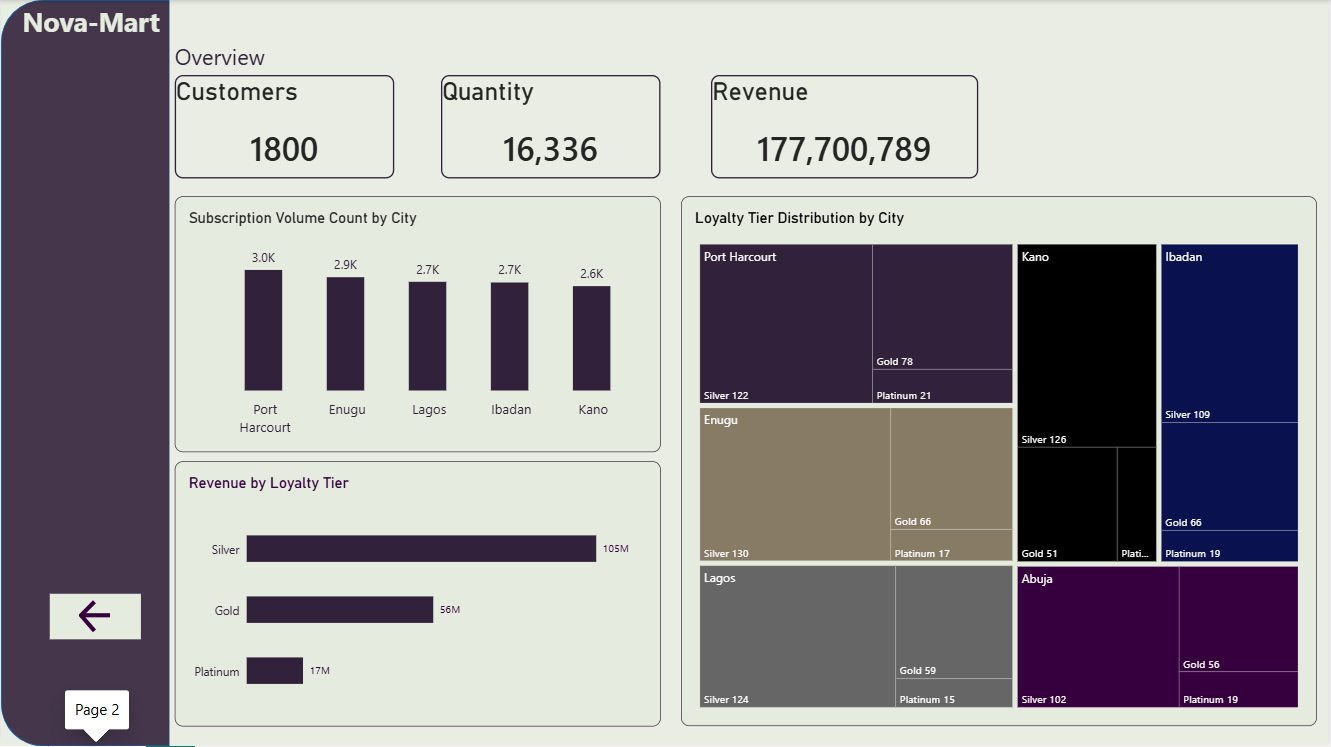

The page's visual inventory and layout, read from the dashboard file:
{"tool":"powerbi","page":{"name":"Page 2","canvas":[1600,900],"ordinal":1},"visuals":[{"type":"shape","box":[0,0,203.6,900.3],"z":1000},{"type":"textbox","box":[25,5,179.5,66.4],"z":2000},{"type":"cardVisual","title":"Revenue","fields":{"Data":["public subscriptions.Revenue"]},"box":[856.6,90.5,322.7,125.2],"z":3000},{"type":"cardVisual","title":"Customers","fields":{"Data":["CountNonNull(public support_tickets.customer_id)"]},"box":[210,90,265,125.2],"z":4000},{"type":"cardVisual","title":"Quantity","fields":{"Data":["Sum(public subscriptions.quantity)"]},"box":[530.8,90.5,265,125.2],"z":5000},{"type":"textbox","box":[210,50,130,50],"z":6000},{"type":"treemap","title":"Loyalty Tier Distribution by City","fields":{"Group":["public customers.city"],"Values":["CountNonNull(public customers.loyalty_tier)"],"Details":["public customers.loyalty_tier"]},"box":[820.4,236.8,767.6,639.4],"z":7000},{"type":"columnChart","fields":{"Y":["Sum(public subscriptions.quantity)"],"Category":["public customers.city"]},"box":[209.6,236.8,586.6,309.2],"z":8000},{"type":"clusteredBarChart","fields":{"Y":["public subscriptions.Revenue"],"Category":["public customers.loyalty_tier"]},"box":[209.6,556.5,586.6,319.7],"z":9000},{"type":"actionButton","box":[58.8,716.3,110,55],"z":10000}]}

Visuals, with their boxes in screenshot pixels (x1, y1, x2, y2), scaled from the page's 1600x900 canvas onto the 1331x747 screenshot:
shape: crop(0, 0, 169, 746)
textbox: crop(21, 4, 170, 59)
"Revenue" cardVisual: crop(713, 75, 981, 179)
"Customers" cardVisual: crop(175, 75, 395, 179)
"Quantity" cardVisual: crop(442, 75, 662, 179)
textbox: crop(175, 42, 283, 83)
"Loyalty Tier Distribution by City" treemap: crop(682, 197, 1321, 727)
columnChart - Sum(public subscriptions.quantity) x public customers.city: crop(174, 197, 662, 453)
clusteredBarChart - public subscriptions.Revenue x public customers.loyalty_tier: crop(174, 462, 662, 727)
actionButton: crop(49, 595, 140, 640)
